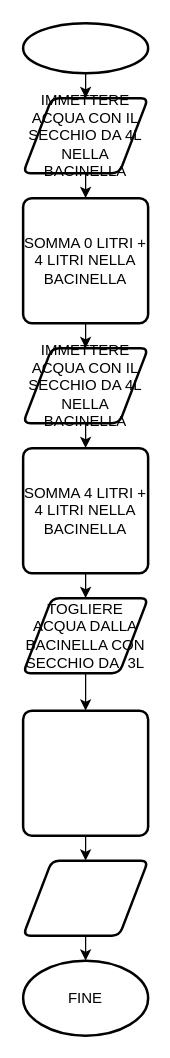
The diagram is 170 pixels wide and 1058 high, and some of its shapes have lost their labels. Each missing label, with the centre of its shape:
INIZIO: (x=85, y=47)
MOSTRARE RISULTATO OTTENUTO: (x=85, y=897)
SOMMA 8 LITRI - 3 LITRI NELLA BACINELLA: (x=85, y=772)
